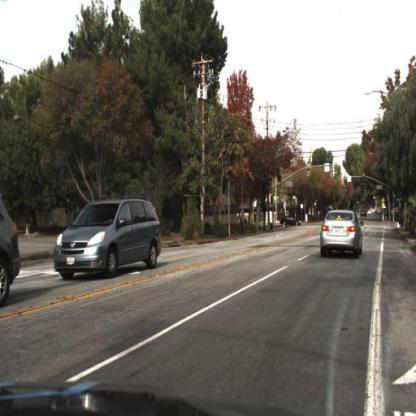car: (47, 185, 164, 289), (313, 195, 370, 277), (318, 209, 367, 261), (1, 194, 22, 314), (275, 213, 306, 236), (278, 212, 304, 230)
trafficLight-Red: (341, 169, 349, 187), (392, 187, 400, 205), (362, 169, 368, 187)
